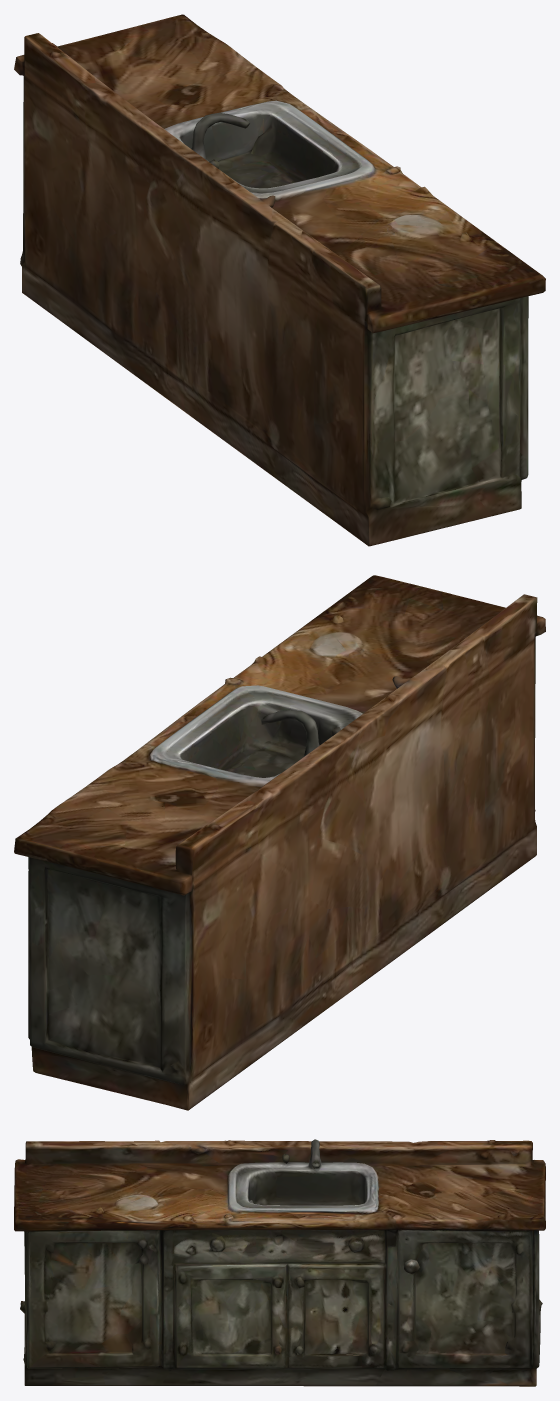
File: counter.glb
The picture shows the model from 3 angles, top to bottom: view 1: azimuth 30°, elevation 25°; view 2: azimuth 150°, elevation 25°; view 3: azimuth 270°, elevation 25°; orthographic projection. The views are drawn at different scales.
Visible parts, largest first — view 1: tripo_node_69aa8a17-5b0c-42b6-98f0-40e4532151af; view 2: tripo_node_69aa8a17-5b0c-42b6-98f0-40e4532151af; view 3: tripo_node_69aa8a17-5b0c-42b6-98f0-40e4532151af.
Boxes of the visible parts, bbox=[...] form: tripo_node_69aa8a17-5b0c-42b6-98f0-40e4532151af: bbox=[14, 14, 545, 546]; tripo_node_69aa8a17-5b0c-42b6-98f0-40e4532151af: bbox=[14, 575, 545, 1110]; tripo_node_69aa8a17-5b0c-42b6-98f0-40e4532151af: bbox=[14, 1139, 545, 1386].
Bounding box in the file's own units: 0.2928 × 0.4263 × 0.9999.
1 material, 1 textured.
